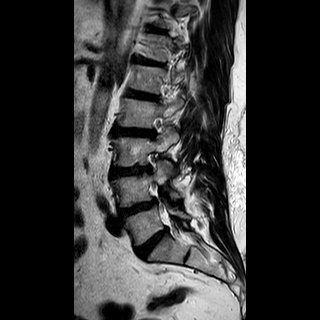LFS0: (143, 111, 166, 146), (140, 148, 165, 177)
